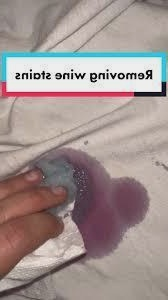wine: (84, 167, 142, 247), (91, 226, 122, 273), (69, 145, 109, 167)
